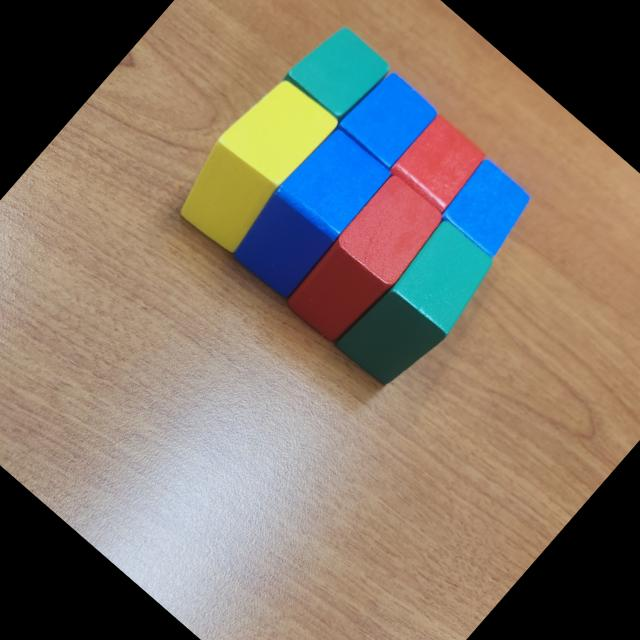blue: (222, 122, 396, 304), (330, 64, 441, 178), (436, 156, 542, 262)
green: (333, 216, 506, 398), (282, 16, 396, 130)
red: (281, 171, 448, 348), (386, 111, 490, 218)
yellow: (163, 70, 342, 258)
